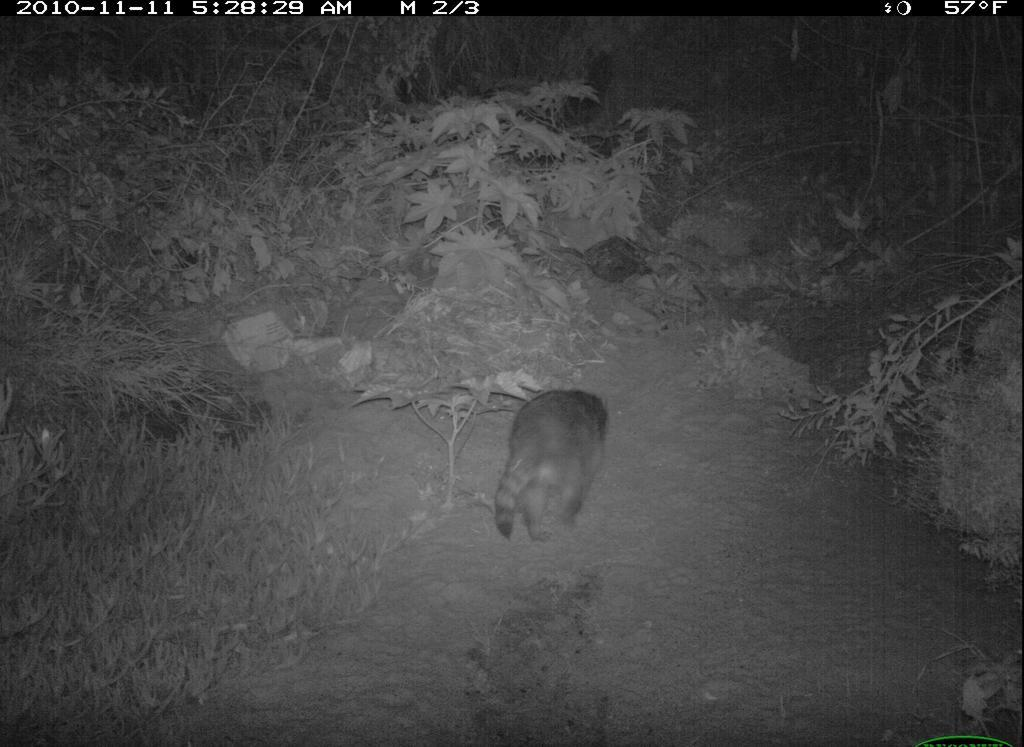raccoon: (487, 386, 615, 550)
